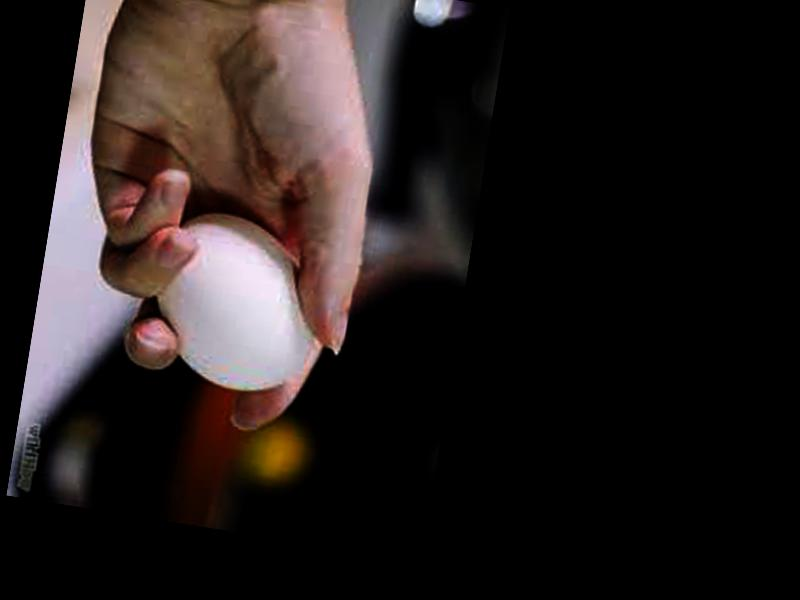Eggs: (145, 206, 329, 402)
